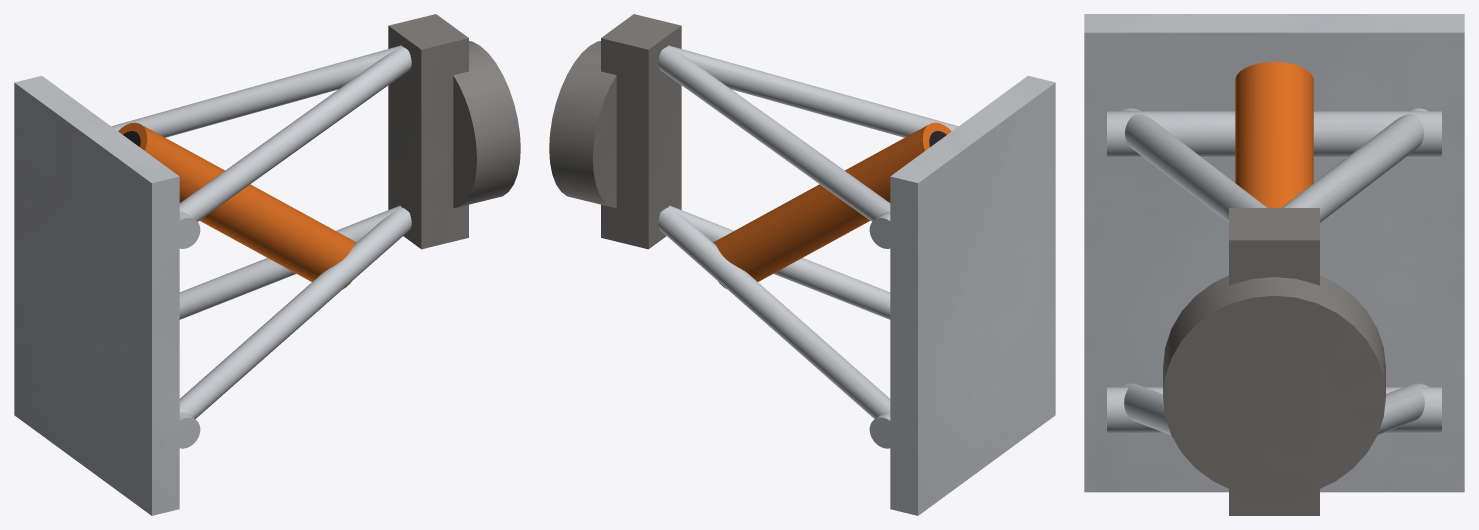
Rendered from rover17_suspension_arm_m_susp_up.glb.
3 renders of one model, left to right at view 1: azimuth 30°, elevation 25°; view 2: azimuth 150°, elevation 25°; view 3: azimuth 270°, elevation 25°, orthographic. The views are drawn at different scales.
Parts seen in each view (by area): view 1: mount_plate, arm_upright, arm_upper, arm_lower, spring; view 2: mount_plate, arm_upright, arm_upper, arm_lower, spring; view 3: mount_plate, arm_upright, arm_upper, spring, arm_lower.
Part boxes in pixels (<box>): mount_plate: <box>14,76,179,515</box>; arm_upright: <box>388,14,520,249</box>; arm_upper: <box>111,45,411,248</box>; arm_lower: <box>179,205,411,448</box>; spring: <box>118,122,356,288</box>; mount_plate: <box>890,76,1055,515</box>; arm_upright: <box>549,14,681,249</box>; arm_upper: <box>658,45,958,248</box>; arm_lower: <box>658,205,890,448</box>; spring: <box>713,122,951,288</box>; mount_plate: <box>1084,14,1464,492</box>; arm_upright: <box>1163,208,1385,515</box>; arm_upper: <box>1107,108,1441,222</box>; spring: <box>1235,62,1313,207</box>; arm_lower: <box>1107,383,1441,434</box>.
Bounding box in the file's own units: 0.5 × 0.42 × 0.3.
4 materials, 2 textured.
